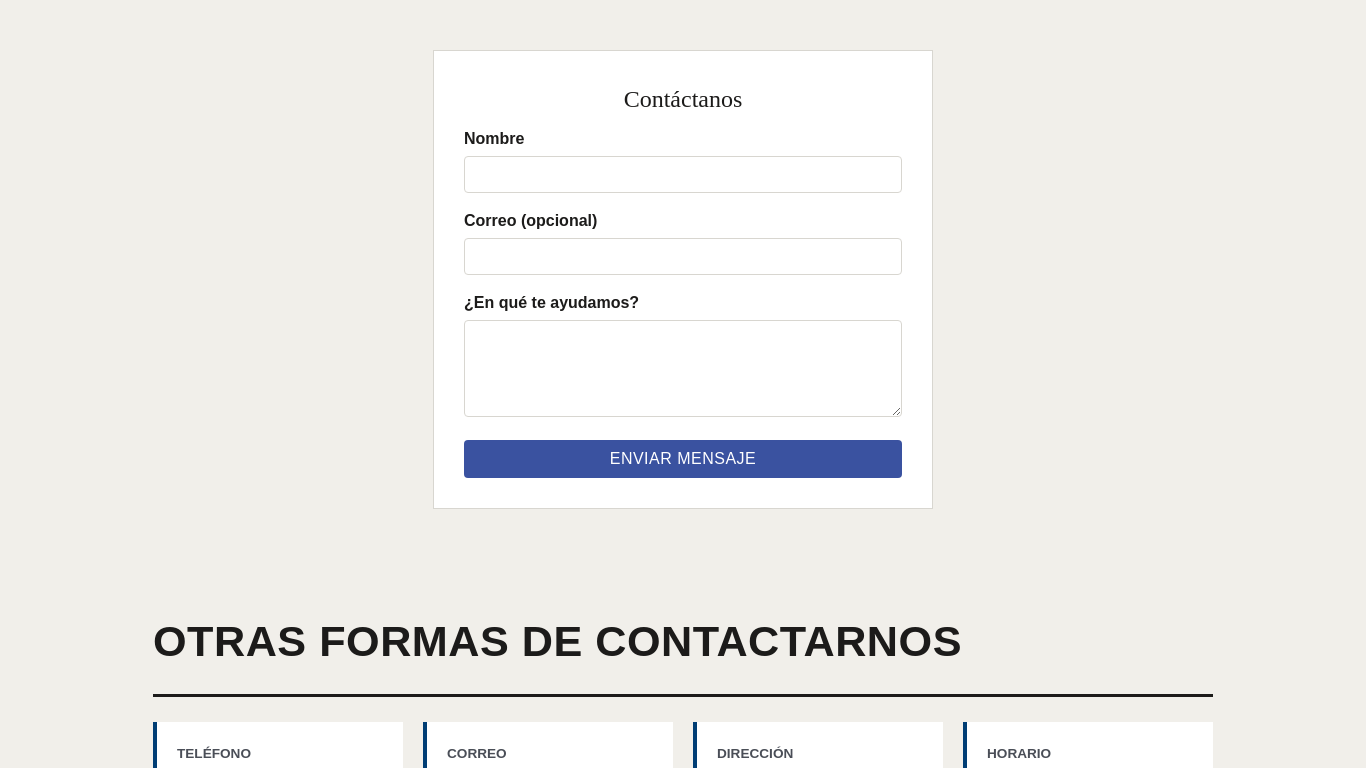
Contacto › permite enviar sin correo
This screenshot has width=1366, height=768.
Type "Ana" into the field labelled "Nombre" at (683, 174), box [464, 156, 902, 193]
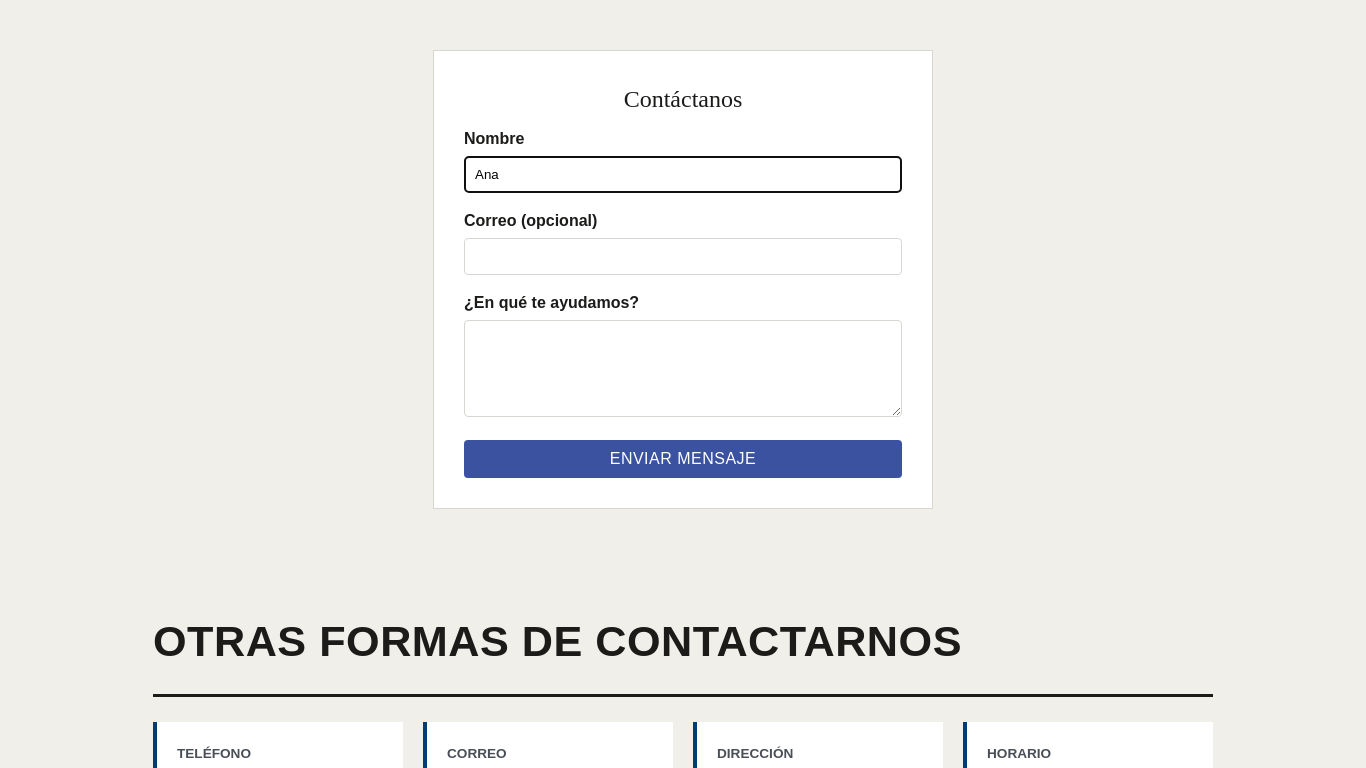
Type "Consulta general" into the text box labelled "¿En qué te ayudamos?" at (683, 368), box [464, 320, 902, 417]
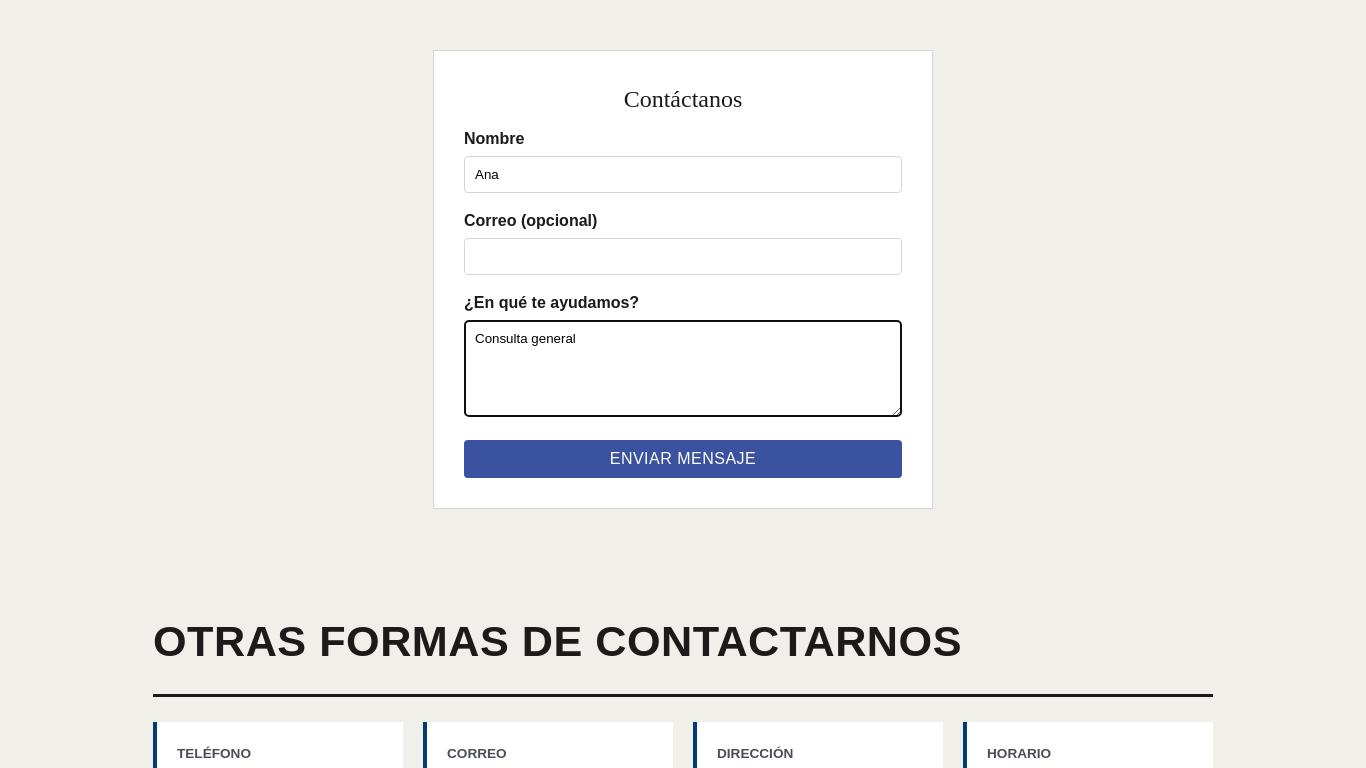
Click the button "Enviar mensaje" at (683, 459), box [464, 440, 902, 478]
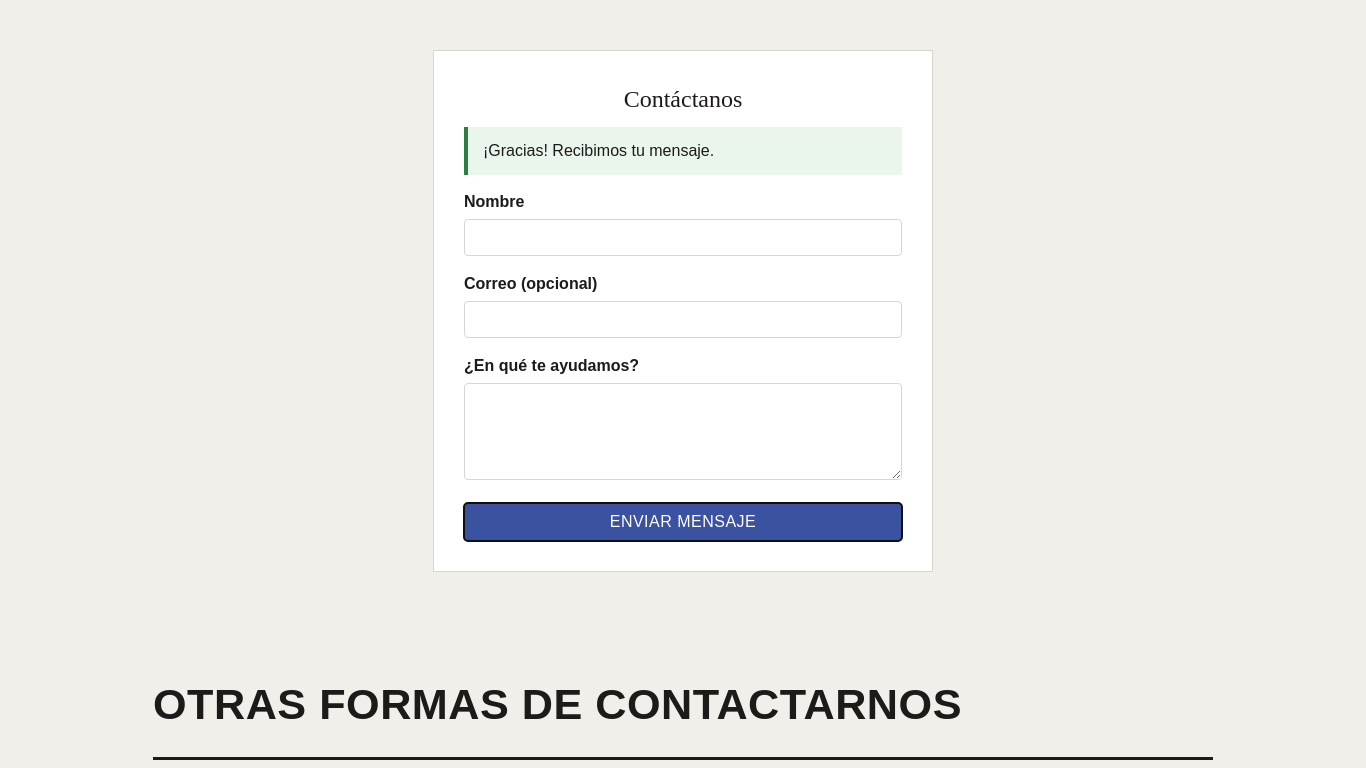
Expected: the text "¡Gracias! Recibimos tu mensaje." is shown, [464, 127, 902, 175]
